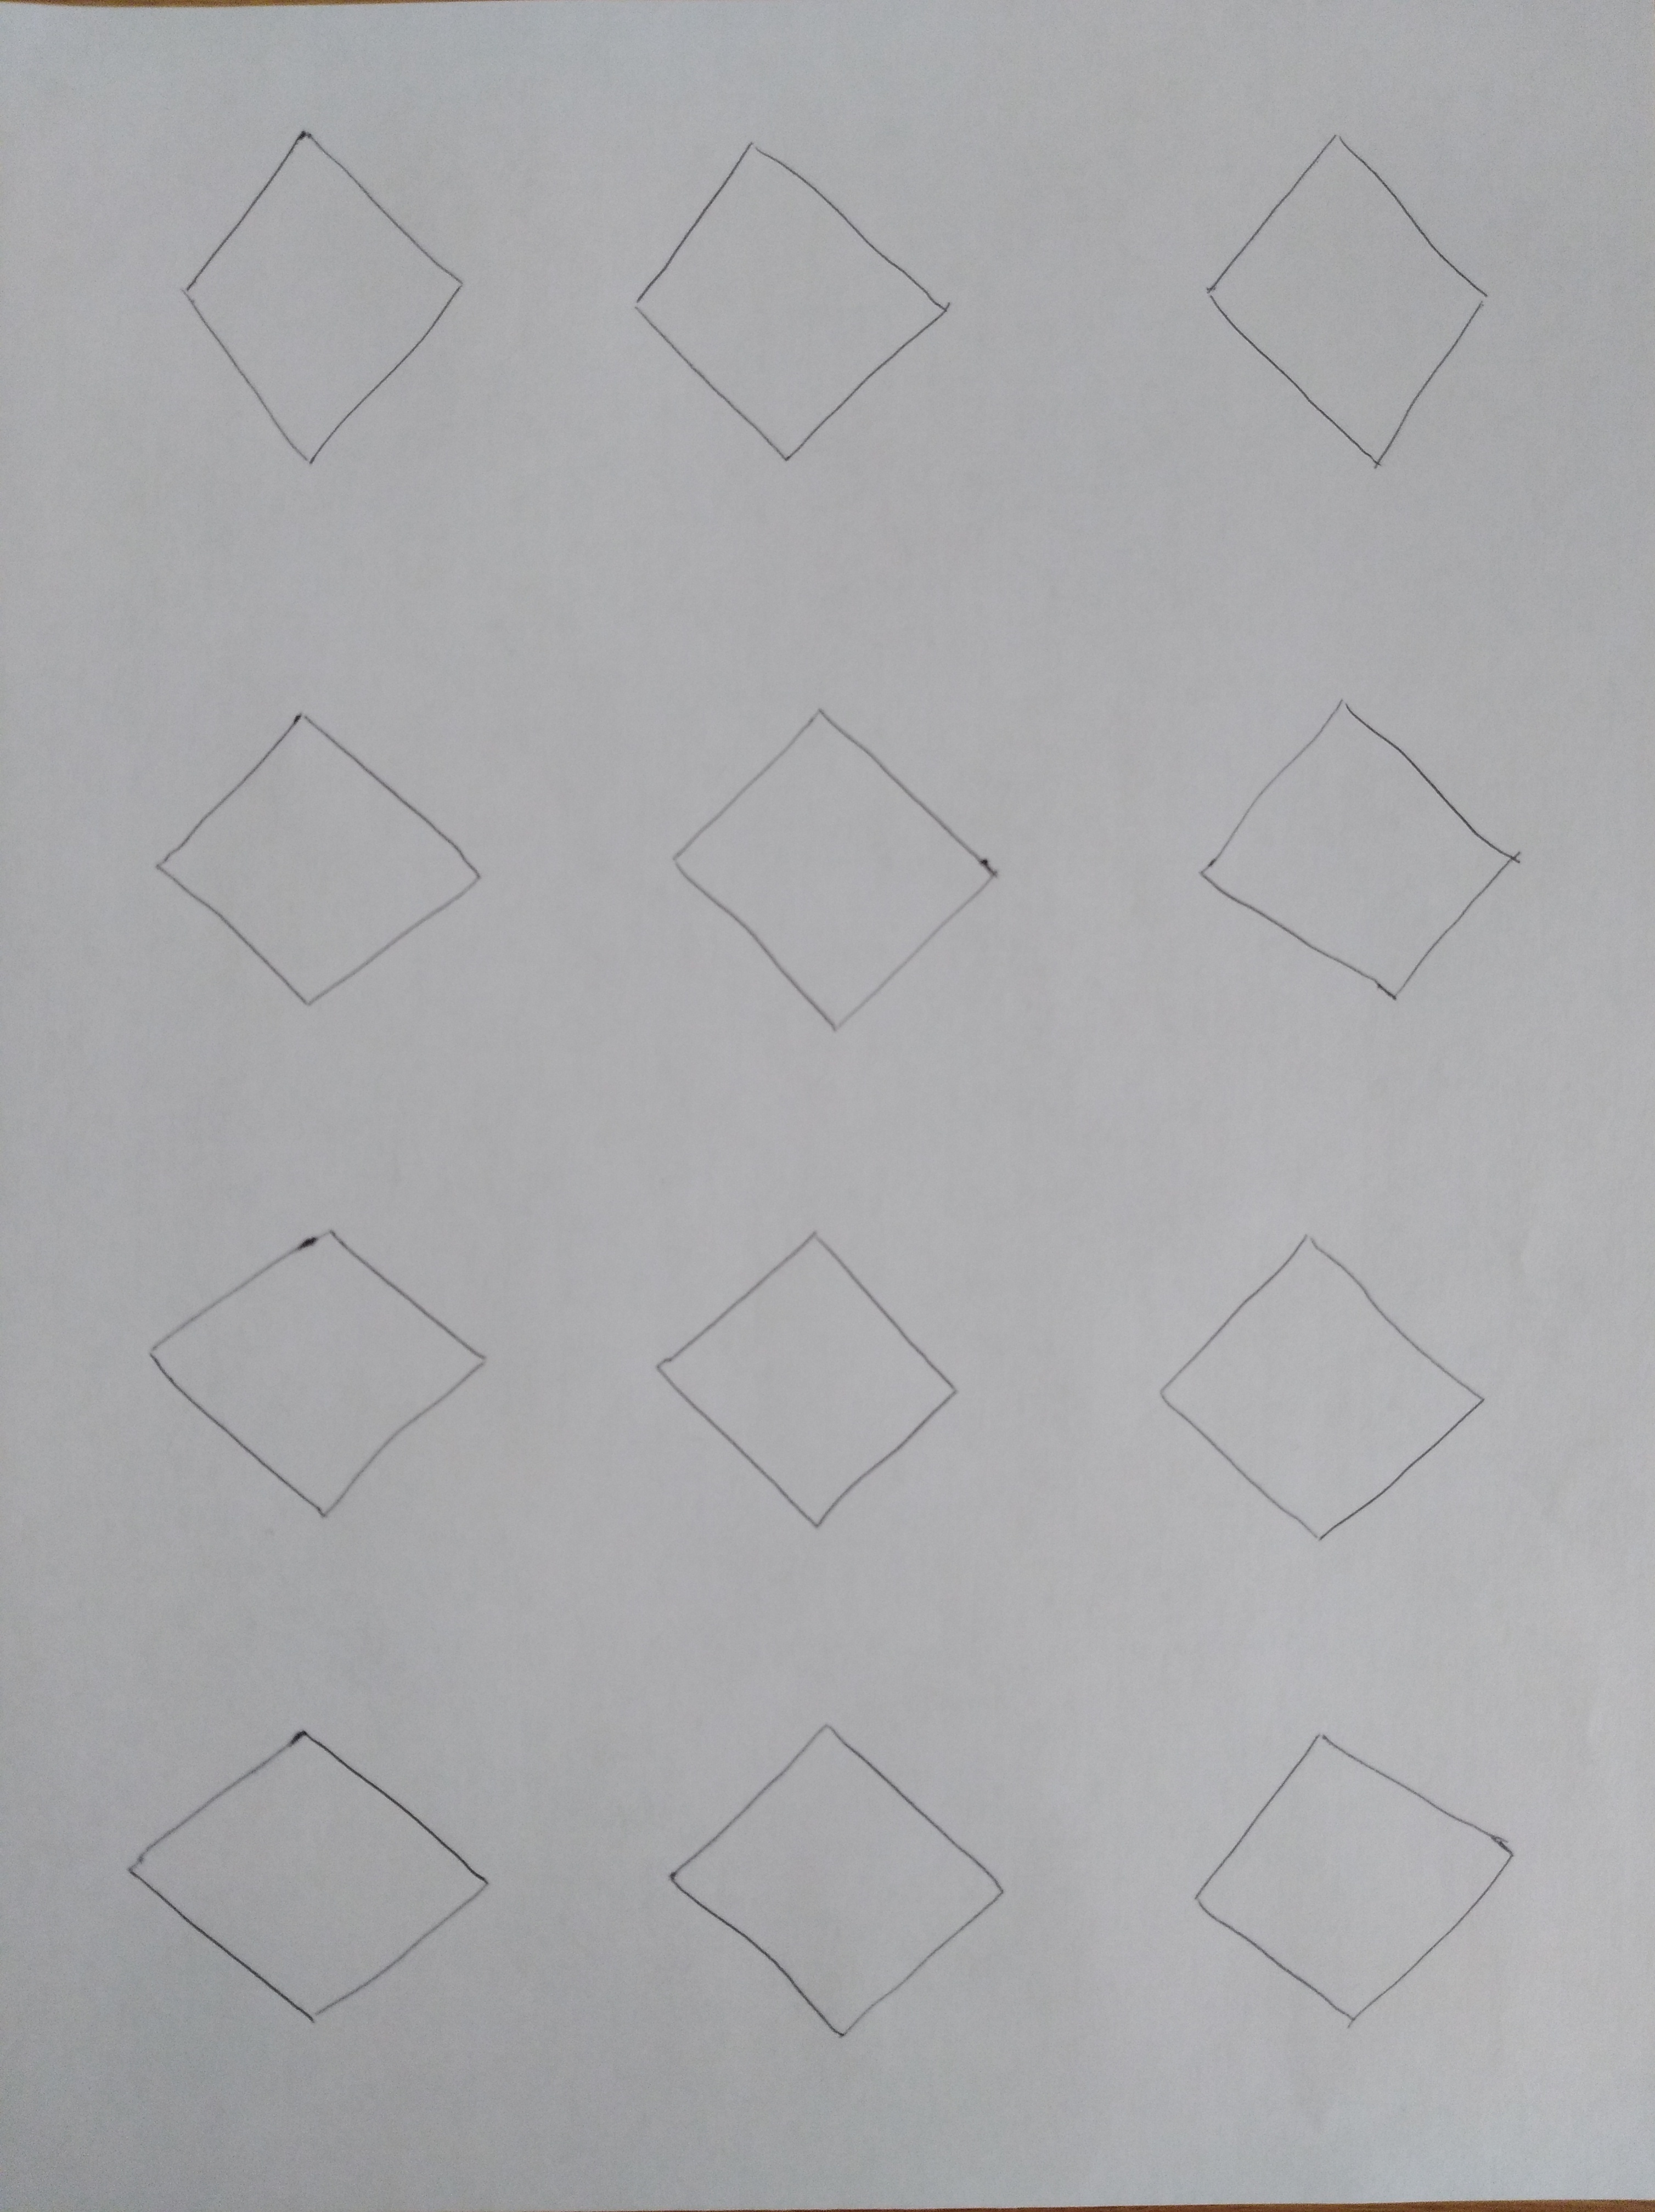decision: (615, 678, 1041, 1083), (96, 1685, 537, 2059), (624, 1696, 1045, 2087), (1144, 104, 1539, 513), (596, 101, 998, 499), (1165, 664, 1556, 1072), (116, 97, 516, 492), (1118, 1202, 1525, 1590), (99, 674, 530, 1037), (92, 1182, 513, 1545), (626, 1199, 989, 1573), (1175, 1699, 1539, 2073)
